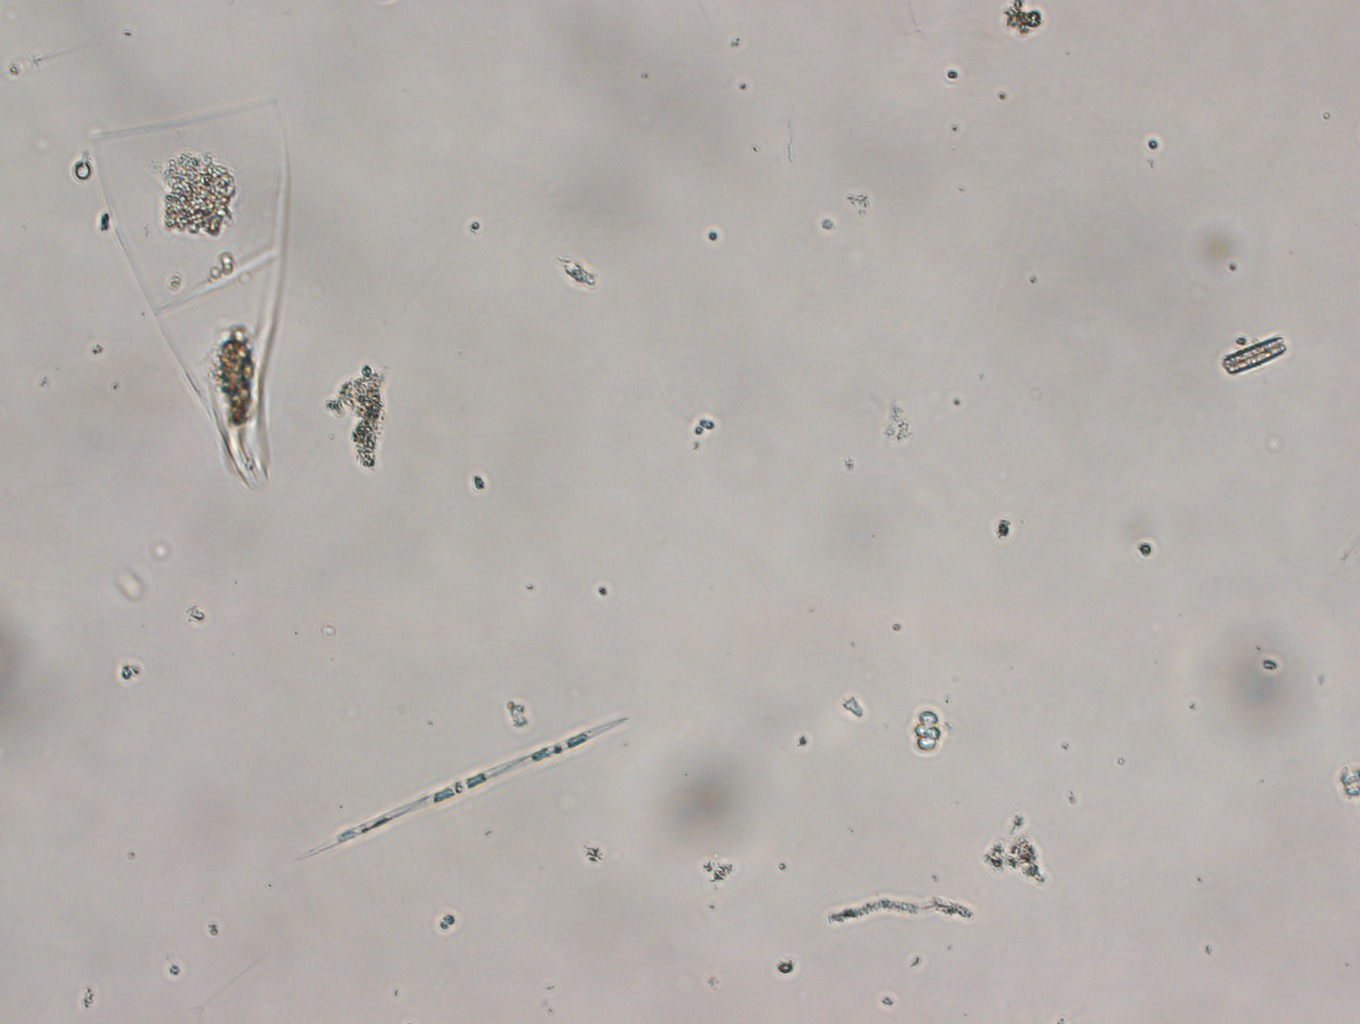helicotheca: (89, 93, 289, 490)
